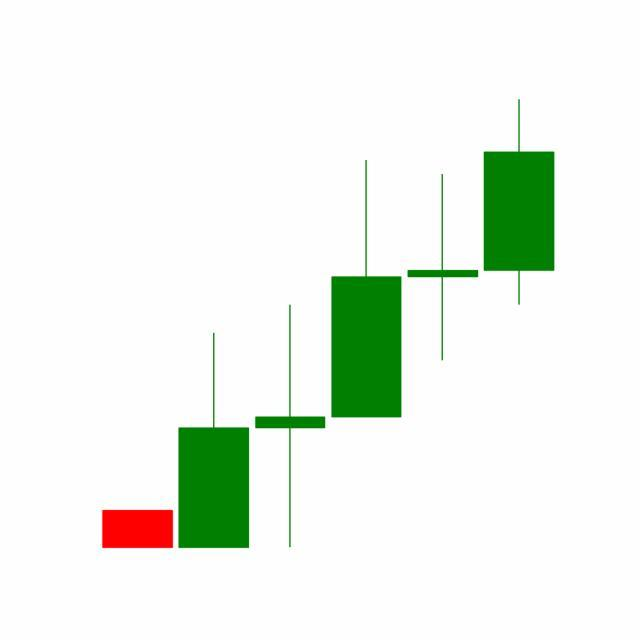Spinning Top: (404, 172, 482, 363)
